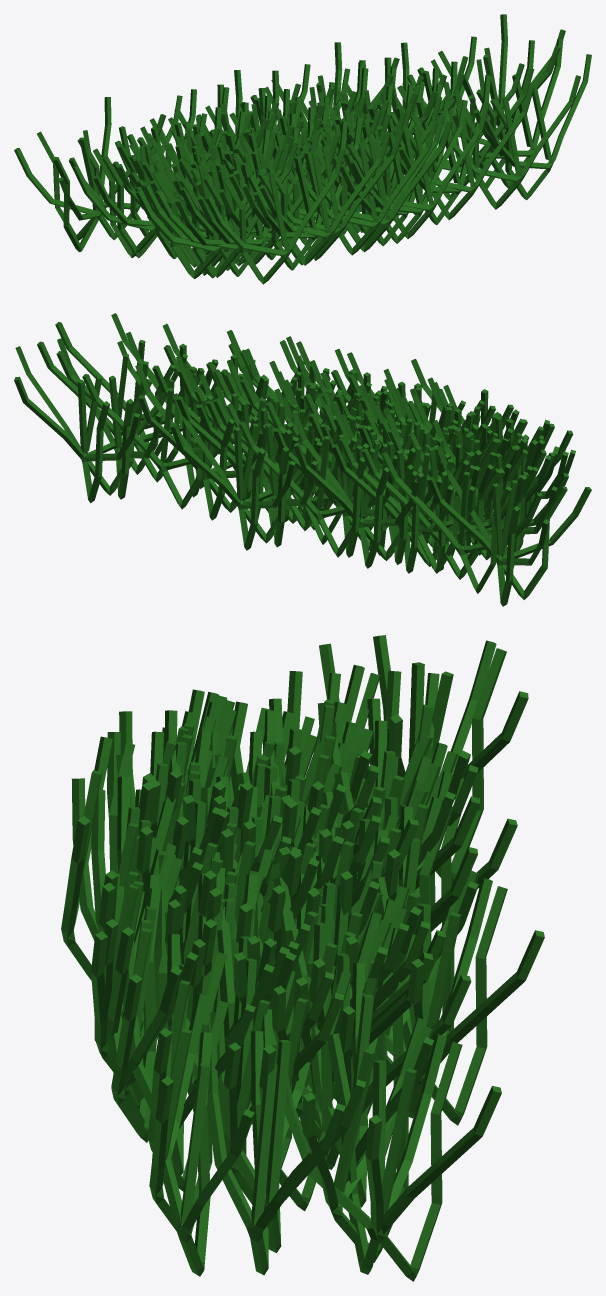
File: grass.fbx
3 renders of one model, top to bottom at view 1: azimuth 30°, elevation 25°; view 2: azimuth 150°, elevation 25°; view 3: azimuth 270°, elevation 25°, orthographic. The views are drawn at different scales.
Visible parts, largest first — view 1: Куб.076, Куб.160, Куб.151, Куб.114, Куб.172, Куб.055, Куб.149, Куб.054, Куб.150, Куб.067, Куб.139, Куб.159 (+63 smaller); view 2: Куб.114, Куб.158, Куб.109, Куб.093, Куб.117, Куб.161, Куб.086, Куб.154, Куб.090, Куб.157, Куб.094, Куб.097 (+65 smaller); view 3: Куб.158, Куб.159, Куб.161, Куб.160, Куб.093, Куб.154, Куб.117, Куб.151, Куб.153, Куб.076, Куб.157, Куб.139 (+82 smaller).
Part boxes in pixels (x1,y1,x2,y2): Куб.076: (205,148,345,284); Куб.160: (484,54,591,200); Куб.151: (449,75,580,209); Куб.114: (53,97,111,251); Куб.172: (350,102,489,238); Куб.055: (294,121,437,255); Куб.149: (256,129,403,260); Куб.054: (247,131,390,265); Куб.150: (392,85,534,219); Куб.067: (253,120,347,270); Куб.139: (350,100,467,243); Куб.159: (474,39,563,188); Куб.114: (427,477,591,599); Куб.158: (15,346,140,503); Куб.109: (381,452,542,593); Куб.093: (172,393,295,550); Куб.117: (436,446,549,606); Куб.161: (14,376,174,495); Куб.086: (291,412,418,568); Куб.154: (57,338,162,499); Куб.090: (170,423,330,543); Куб.157: (82,374,248,509); Куб.094: (238,421,404,557); Куб.097: (214,385,317,547); Куб.158: (365,1034,462,1281); Куб.159: (207,1031,345,1275); Куб.161: (272,1033,501,1274); Куб.160: (159,1031,254,1276); Куб.093: (408,878,507,1125); Куб.154: (302,1017,433,1262); Куб.117: (388,640,506,886); Куб.151: (149,993,228,1232); Куб.153: (210,1009,365,1253); Куб.076: (61,736,134,980); Куб.157: (307,963,434,1207); Куб.139: (108,885,182,1125).
Size of the model in its own units: 98.79 by 23.14 by 39.65.
